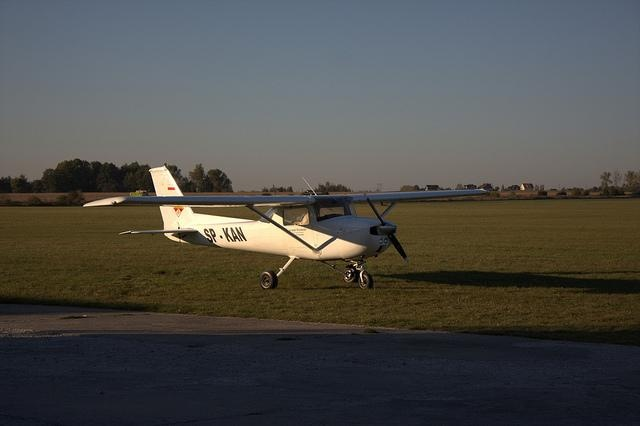airplane: (80, 165, 486, 292)
